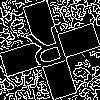R: (25, 25, 73, 79)
